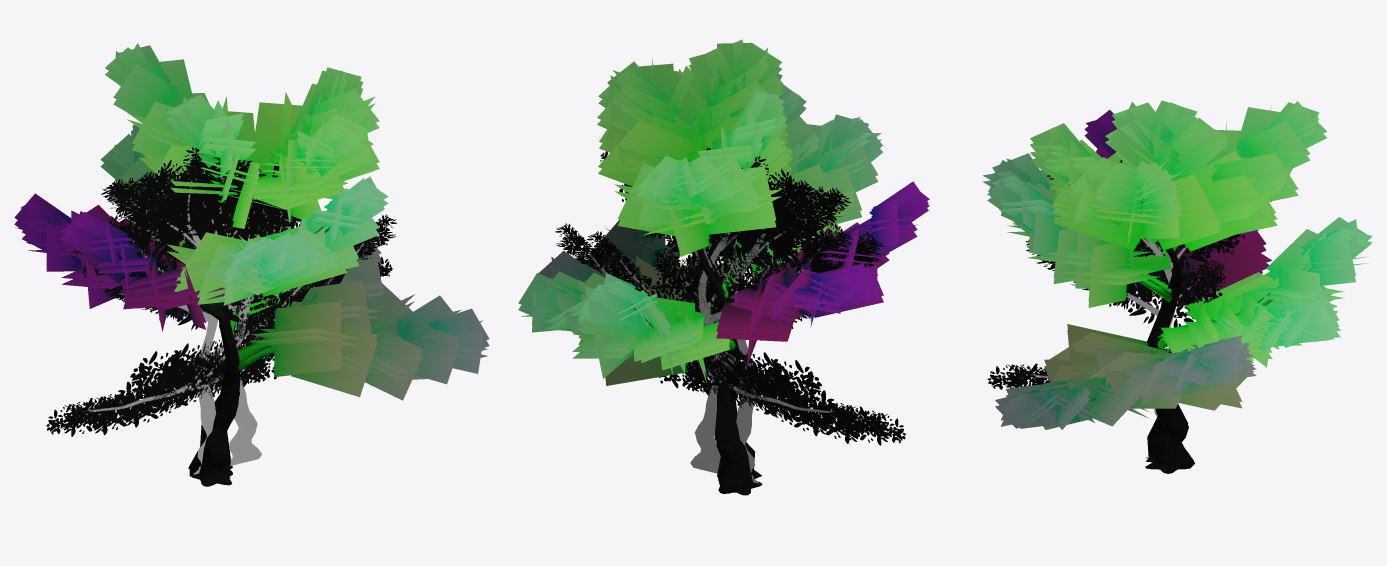
The model's file is treeA.fbx.
The picture shows the model from 3 angles, left to right: view 1: azimuth 30°, elevation 25°; view 2: azimuth 150°, elevation 25°; view 3: azimuth 270°, elevation 25°; orthographic projection. The views are drawn at different scales.
Parts seen in each view (by area): view 1: treeA_2, treeA_1, treeA_3, treeA_4; view 2: treeA_2, treeA_1, treeA_4, treeA_3; view 3: treeA_2, treeA_1, treeA_3.
Boxes of the visible parts, <box> form: treeA_2: <box>14,43,489,479</box>; treeA_1: <box>14,50,489,486</box>; treeA_3: <box>46,147,364,474</box>; treeA_4: <box>80,155,396,465</box>; treeA_2: <box>518,39,929,490</box>; treeA_1: <box>518,60,929,495</box>; treeA_4: <box>555,151,874,473</box>; treeA_3: <box>587,156,905,483</box>; treeA_2: <box>982,100,1372,468</box>; treeA_1: <box>982,107,1372,473</box>; treeA_3: <box>987,160,1271,458</box>.
Bounding box in the file's own units: 1.1 × 1.03 × 1.06.
